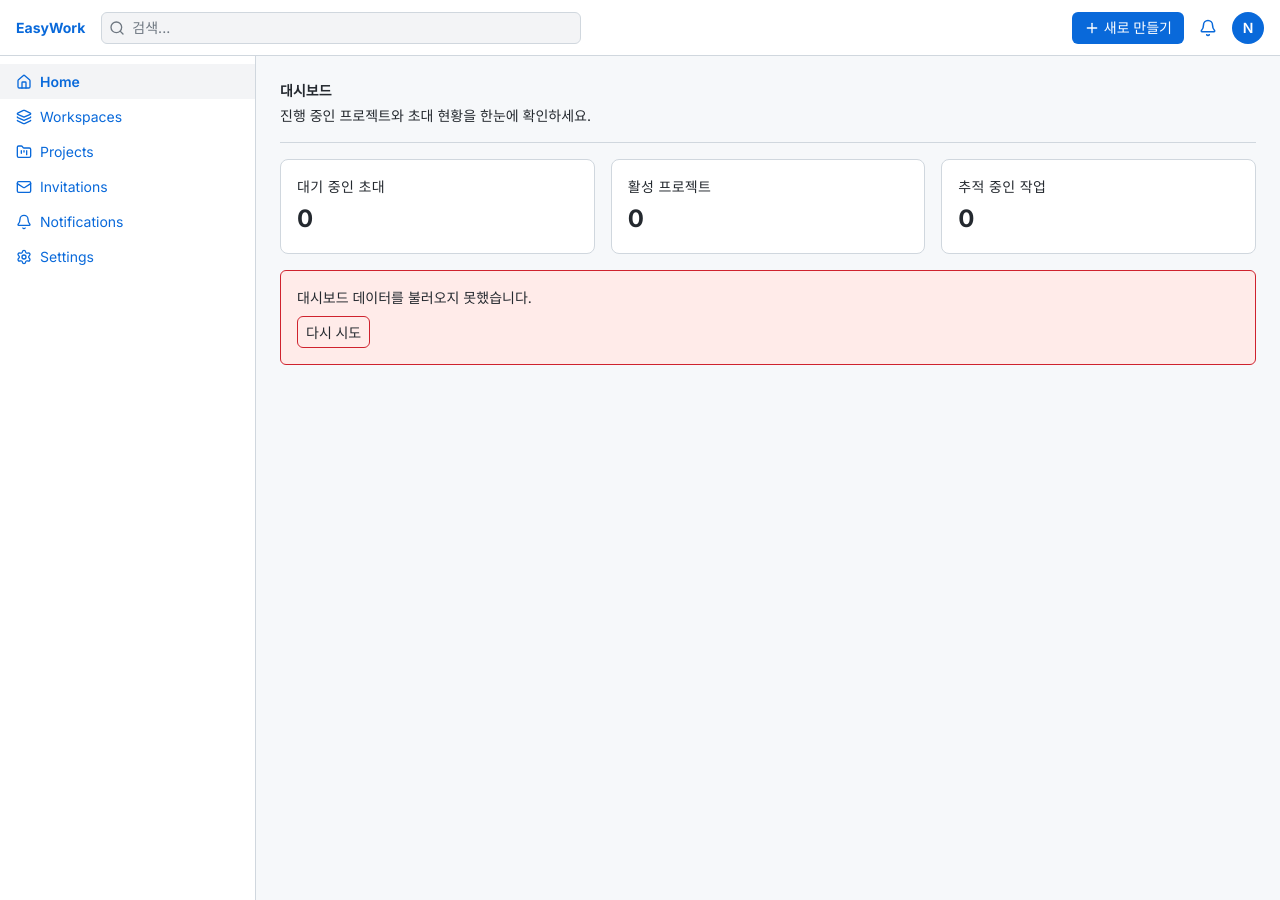
Test: Dashboard route › retries dashboard fetch after initial load failure
The width and height of the screenshot is (1280, 900).
Expected: the text "대시보드 데이터를 불러오지 못했습니다." is shown, [297,289,532,306]
Click the button "다시 시도".
click(334, 332)  # box [297,316,370,348]
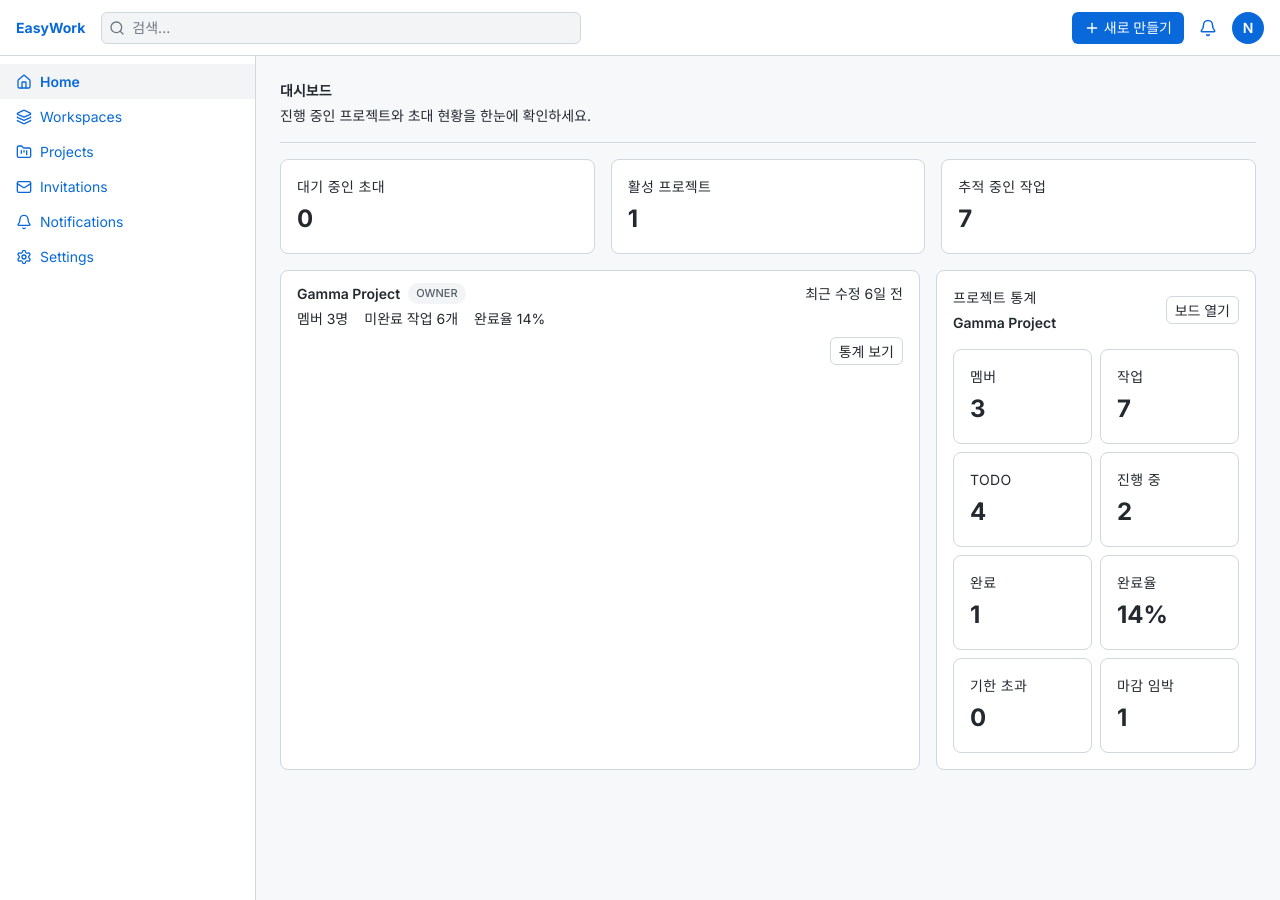
Expected: the text "Gamma Project" in the row of "최근 수정" is shown, [297,285,400,302]
